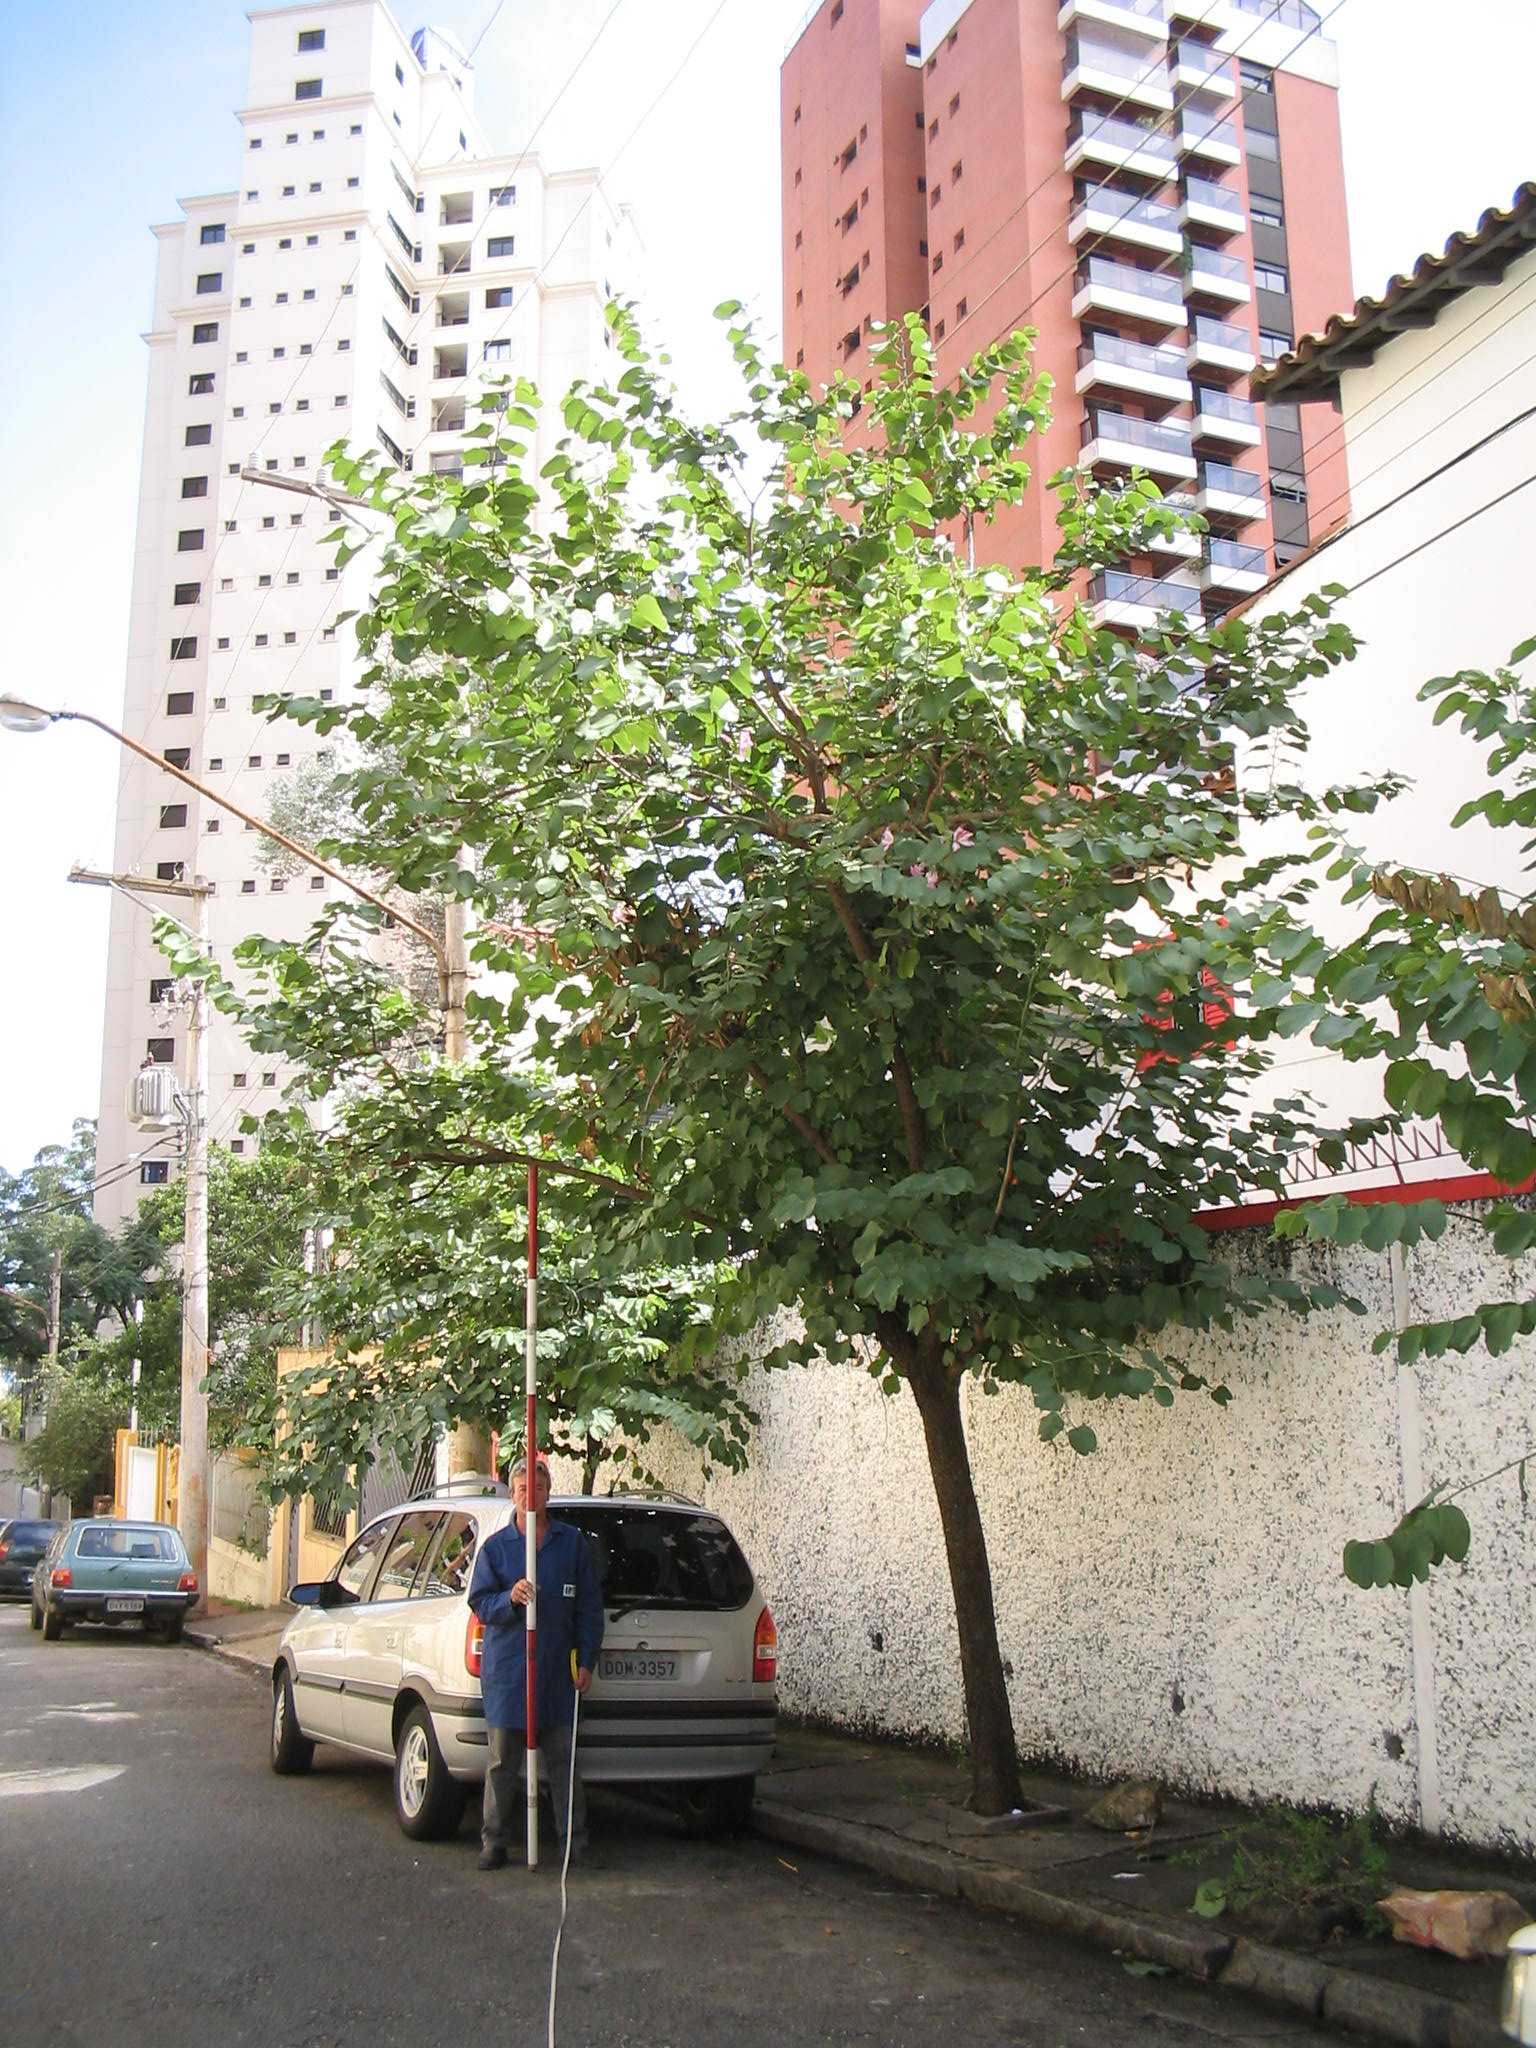crown: (165, 292, 1378, 1440)
stem: (849, 1400, 1083, 1816)
stick: (487, 1161, 566, 1875)
tree: (152, 284, 1379, 1825)
